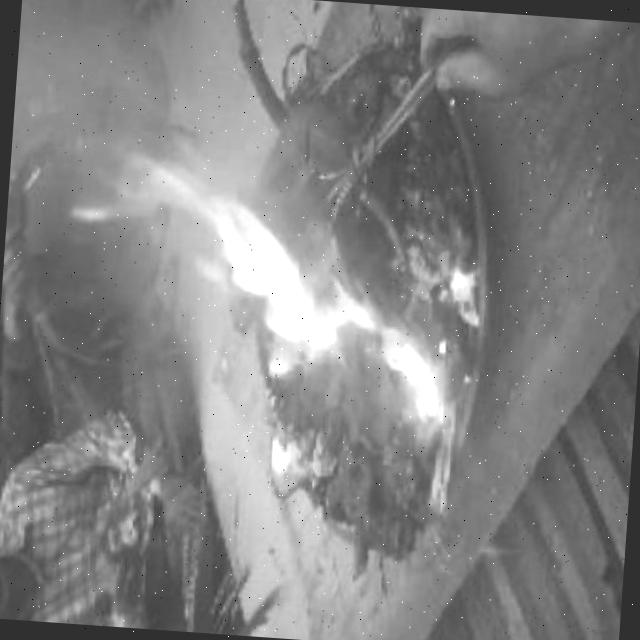fire: (202, 228, 389, 388), (81, 224, 211, 400), (65, 134, 265, 246), (370, 268, 493, 447), (5, 137, 74, 239)
